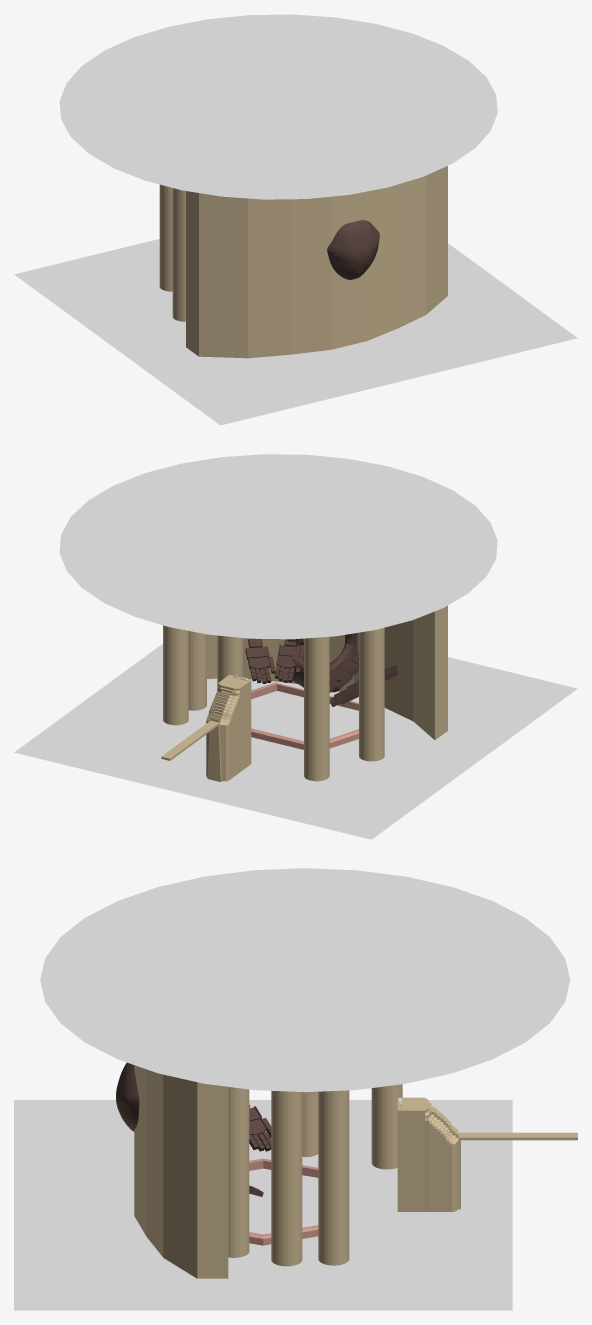
Rendered from environment.fbx.
3 views of the same model, one above another, from view 1: azimuth 30°, elevation 25°; view 2: azimuth 150°, elevation 25°; view 3: azimuth 270°, elevation 25° (orthographic). The views are drawn at different scales.
Visible parts, largest first — view 1: Circle, Plane.004, Plane.002, skull_s_teeth_HIGH, Cylinder, Cylinder.001; view 2: Circle, Plane.002, Plane.004, Plane.001, Cylinder.001, Cylinder, Cylinder.002, Cylinder.003, Plane, Cylinder.004, Cube.002, Cube.005 (+3 smaller); view 3: Circle, Plane.002, Plane.004, Plane.001, Cylinder.003, Cylinder.002, Cylinder.004, Cylinder.001, skull_s_teeth_HIGH, Cylinder, Plane, Cube.004.
Boxes of the visible parts, box(x1,y1,x2,y2) form: Circle: box(59, 14, 497, 199); Plane.004: box(186, 166, 447, 358); Plane.002: box(14, 239, 577, 425); skull_s_teeth_HIGH: box(327, 220, 379, 279); Cylinder: box(172, 188, 185, 321); Cylinder.001: box(159, 184, 172, 291); Circle: box(59, 454, 497, 639); Plane.002: box(14, 644, 577, 839); Plane.004: box(207, 605, 447, 739); Plane.001: box(161, 675, 251, 781); Cylinder.001: box(304, 636, 329, 781); Cylinder: box(359, 627, 384, 761); Cylinder.002: box(163, 625, 188, 725); Cylinder.003: box(188, 631, 206, 710); Plane: box(251, 682, 358, 749); Cylinder.004: box(217, 635, 243, 688); Cube.002: box(245, 638, 275, 683); Cube.005: box(292, 633, 357, 692); Circle: box(40, 868, 570, 1092); Plane.002: box(14, 1100, 512, 1310); Plane.004: box(134, 1065, 228, 1278); Plane.001: box(397, 1097, 577, 1211); Cylinder.003: box(271, 1090, 302, 1266); Cylinder.002: box(318, 1090, 349, 1265); Cylinder.004: box(228, 1087, 249, 1257); Cylinder.001: box(371, 1084, 402, 1169); skull_s_teeth_HIGH: box(116, 1062, 139, 1131); Cylinder: box(302, 1091, 318, 1156); Plane: box(249, 1158, 318, 1245); Cube.004: box(249, 1105, 271, 1151).
Size of the model in its own units: 10772 by 5524 by 11460.
